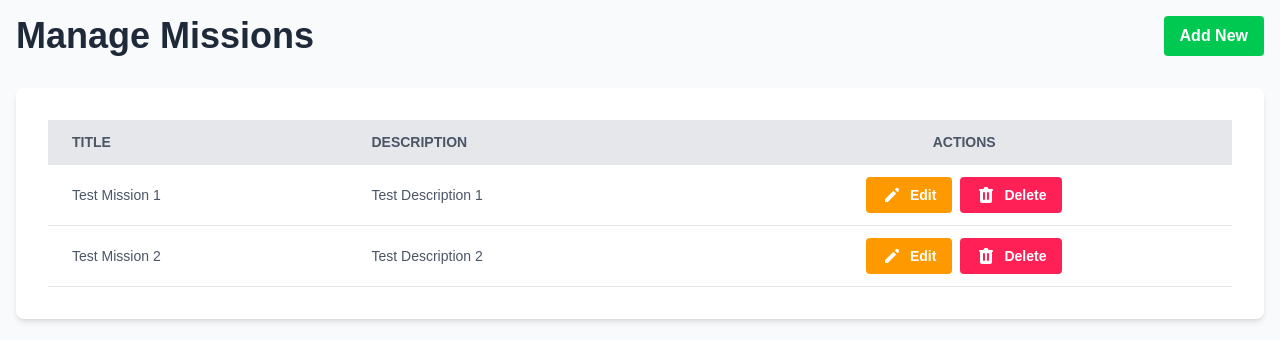
Test: MissionPage › deletes a mission when delete is confirmed
Click the button "Delete" in the row of "Test Mission 1" at (1011, 195), box [960, 177, 1062, 213]
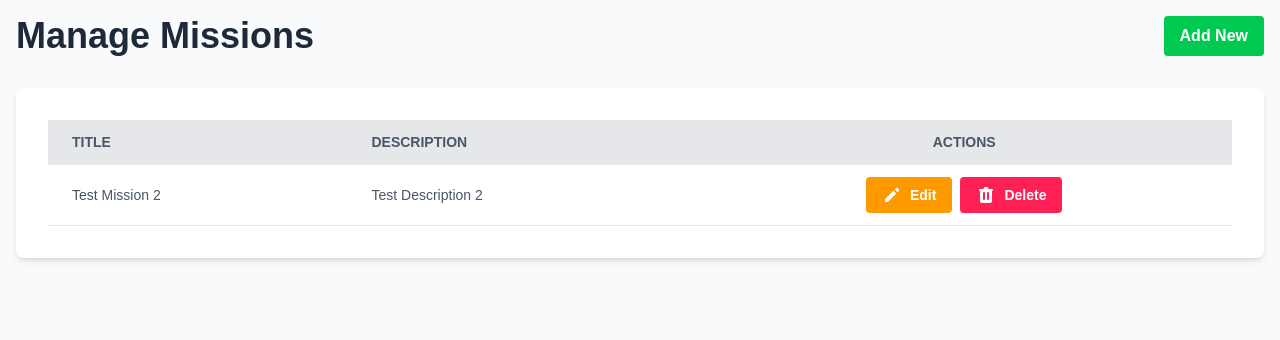
Expected: the text "Test Mission 1" is gone
